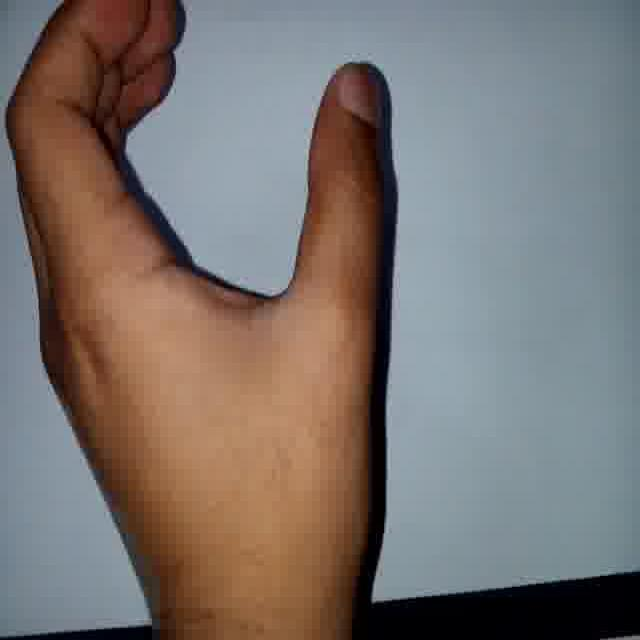Alphabet-C: (5, 1, 393, 610)
